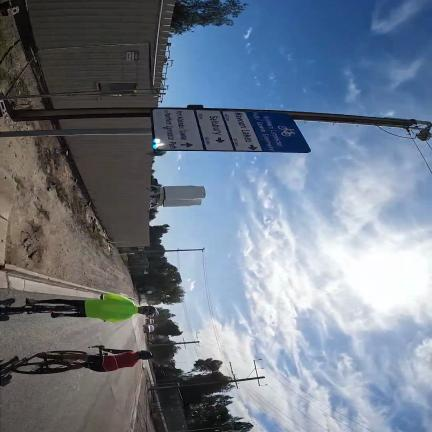Bike_Sign: (152, 108, 310, 153)
